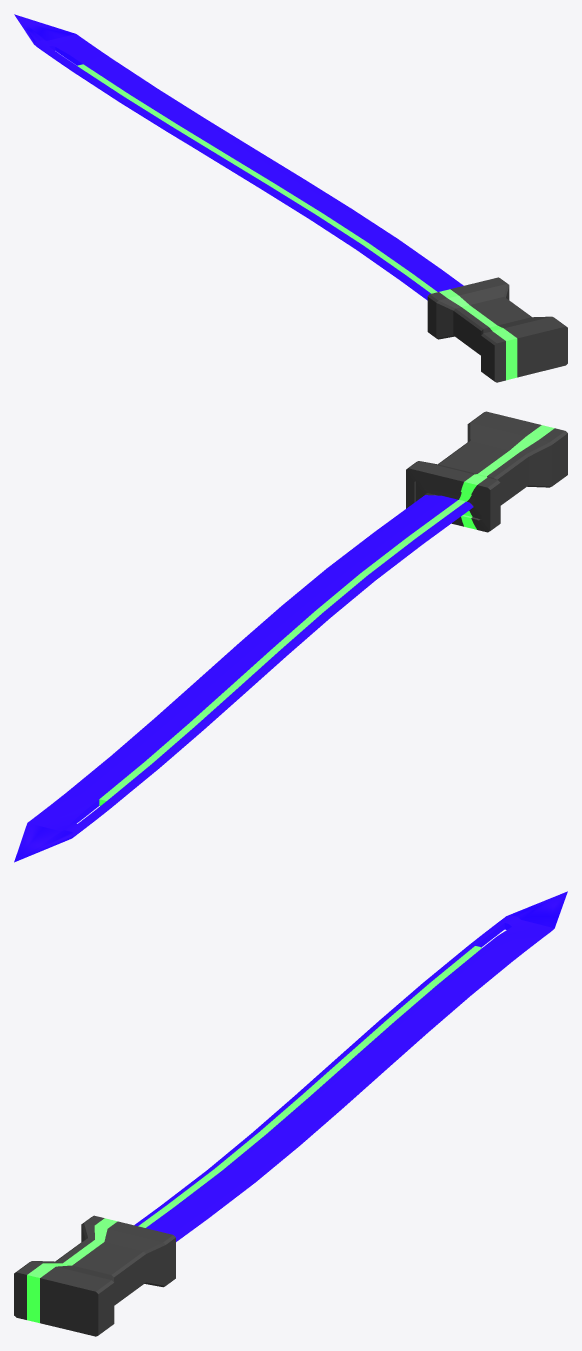
File: Swort.fbx
3 views of the same model, one above another, from view 1: azimuth 30°, elevation 25°; view 2: azimuth 150°, elevation 25°; view 3: azimuth 330°, elevation 25° (orthographic). The views are drawn at different scales.
Visible parts, largest first — view 1: Blade, Holder; view 2: Blade, Holder; view 3: Blade, Holder.
Part boxes in pixels (x1=…): Blade: x1=14, y1=14, x2=463, y2=300; Holder: x1=427, y1=277, x2=567, y2=382; Blade: x1=14, y1=495, x2=473, y2=862; Holder: x1=406, y1=411, x2=567, y2=532; Blade: x1=134, y1=891, x2=567, y2=1241; Holder: x1=14, y1=1215, x2=175, y2=1336.
Bounding box in the file's own units: 12.13 × 5.05 × 112.
